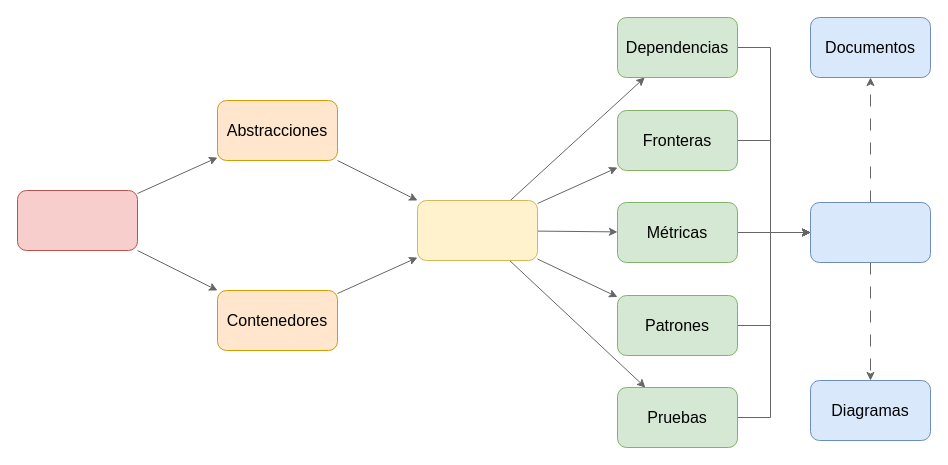
This 948x465 diagram has some shape labels left out. The centre of each missing label's shape, as x and y in pixels:
"Componentes" goes at [477,230].
"Código" goes at [870,232].
"Estilo Arquitectonico" goes at [77,220].
